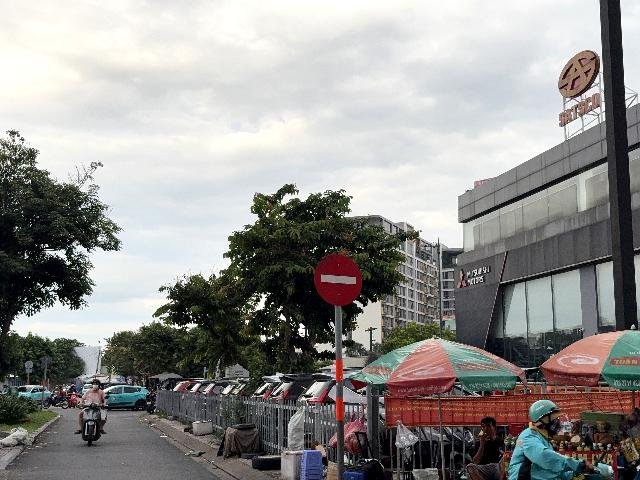cam-di-nguoc-chieu: (314, 254, 362, 306)
